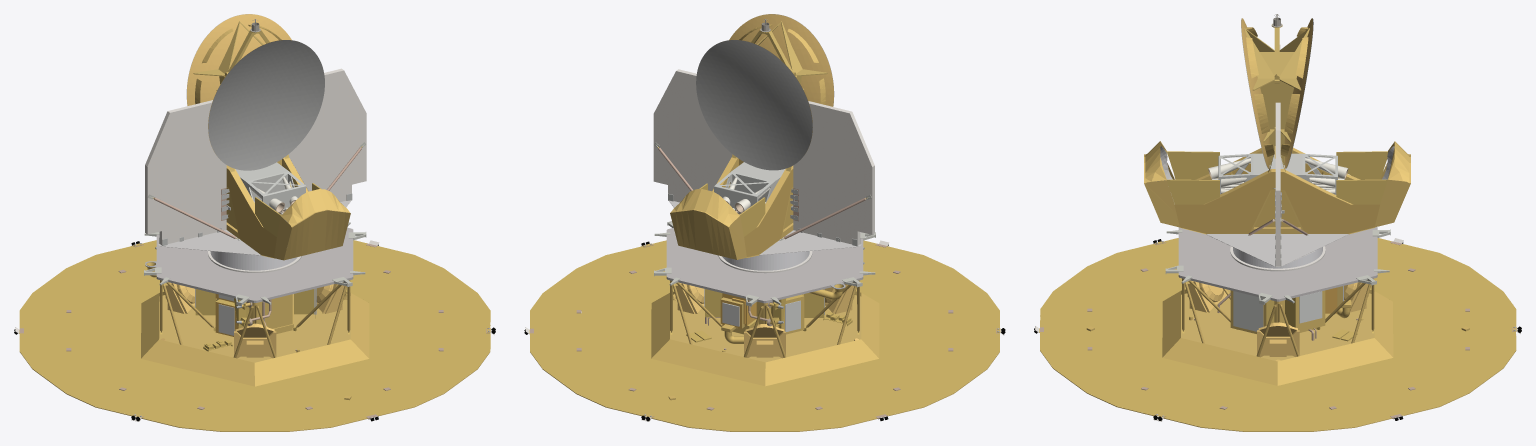
File: wmap.glb
3 renders of one model, left to right at view 1: azimuth 30°, elevation 25°; view 2: azimuth 150°, elevation 25°; view 3: azimuth 270°, elevation 25°, orthographic.
Visible parts, largest first — view 1: Layer_0; view 2: Layer_0; view 3: Layer_0.
Part boxes in pixels (x1,y1,x2,y2): Layer_0: (14, 14, 495, 431); Layer_0: (524, 14, 1005, 431); Layer_0: (1034, 14, 1521, 431).
Size of the model in its own units: 278 by 208 by 283.
Materials: 2 (2 with a texture image).
